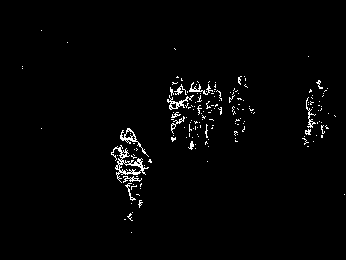person: (109, 127, 153, 221), (300, 78, 331, 147), (227, 74, 256, 144), (164, 73, 190, 144), (199, 76, 221, 146), (184, 80, 202, 149)
